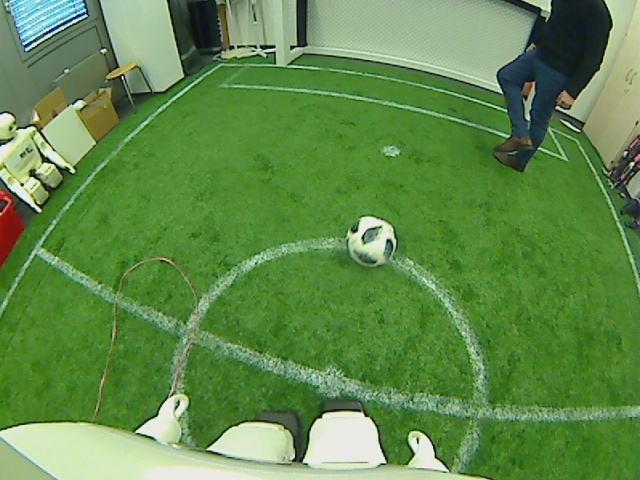ball: (346, 213, 396, 270)
